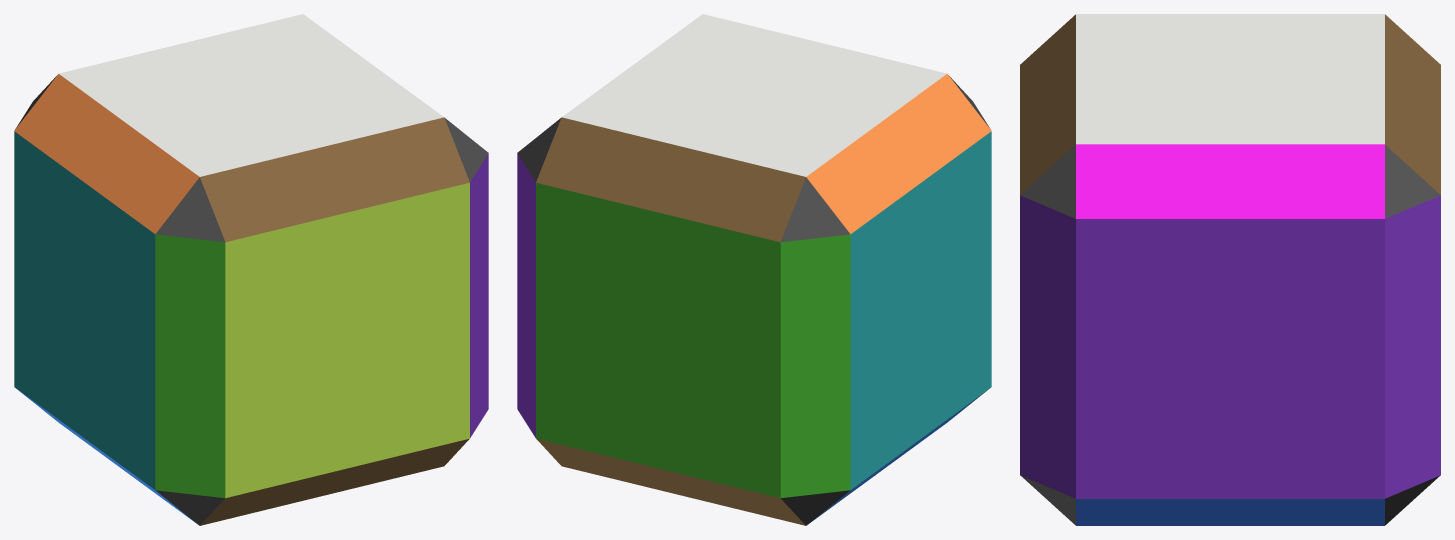
File: Kostka.obj
3 views of the same model, side by side, from view 1: azimuth 30°, elevation 25°; view 2: azimuth 150°, elevation 25°; view 3: azimuth 270°, elevation 25° (orthographic). The views are drawn at different scales.
Parts seen in each view (by area): view 1: Kostka; view 2: Kostka; view 3: Kostka.
Boxes of the visible parts, left/top/right/bottom form: Kostka: left=14, top=14, right=488, bottom=525; Kostka: left=517, top=14, right=991, bottom=525; Kostka: left=1020, top=14, right=1440, bottom=525.
Bounding box in the file's own units: 15 × 15 × 15.
